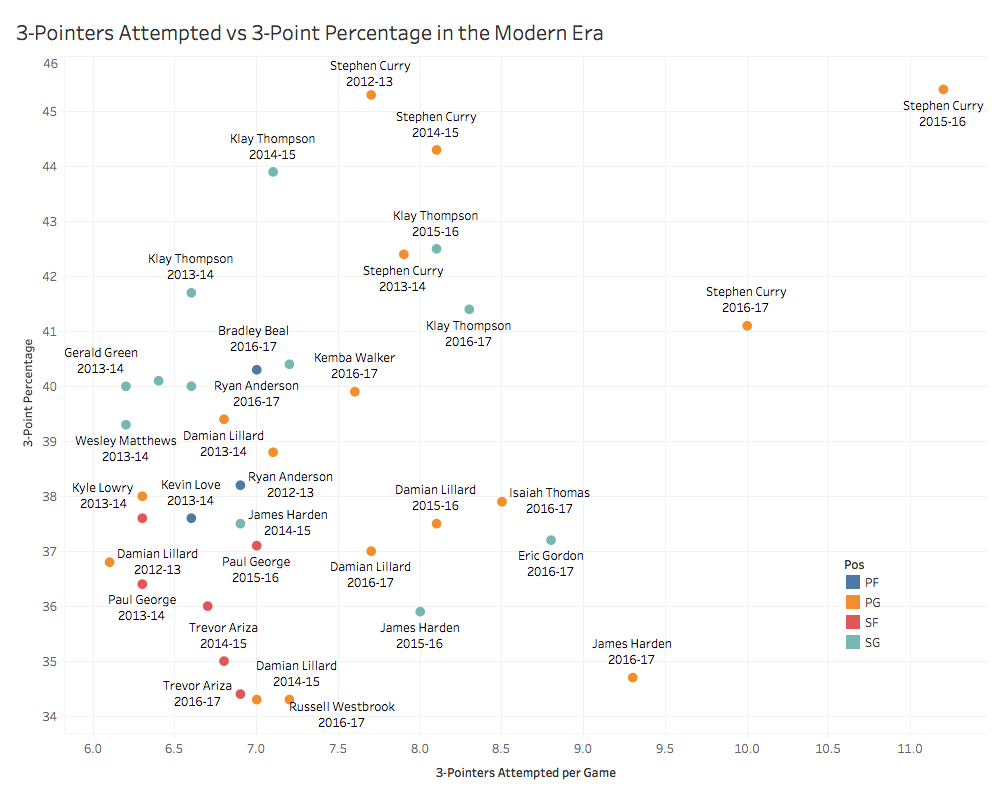

What the dashboard file says about the page in this screenshot:
{"tool":"tableau","page":{"name":"Dashboard Scatter - Modern","canvas":[1000,800],"ordinal":2},"visuals":[{"type":"worksheet","title":"3PA vs 3P% Modern Era","mark":"Automatic","rows":["Calculation_164592519228686337"],"cols":["3PA_per_G"],"box":[8,8,984,784]},{"type":"legend","title":"3PA vs 3P% Modern Era","param":"[federated.17a09wr06ypdr610gk5lw0ynw3zw].[none:Pos:nk]","box":[839,550,140,116]}]}

Visuals, with their boxes in screenshot pixels (x1, y1, x2, y2), scaled from the page's 1000x800 canvas onto the 1000x800 screenshot:
"3PA vs 3P% Modern Era" worksheet: pyautogui.locateOnScreen(8, 8, 992, 792)
"3PA vs 3P% Modern Era" legend: pyautogui.locateOnScreen(839, 550, 979, 666)
